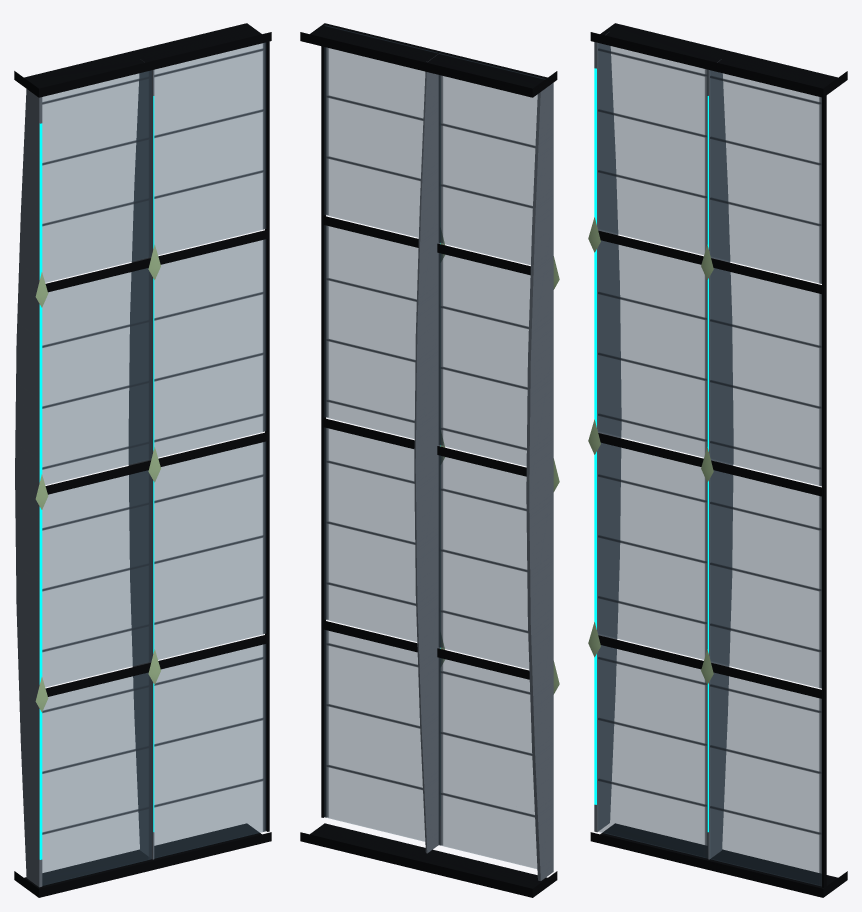
3 renders of one model, left to right at view 1: azimuth 30°, elevation 25°; view 2: azimuth 150°, elevation 25°; view 3: azimuth 330°, elevation 25°, orthographic.
Visible parts, largest first — view 1: Fin_Leaf, Glass_Pane_12, Glass_Pane_11, Glass_Pane_10, Glass_Pane_13, Glass_Pane_02, Glass_Pane_01, Glass_Pane_00, Glass_Pane_03, Transoms, Head_Track, Sill_Track (+3 smaller); view 2: Fin_Leaf, Glass_Pane_10, Glass_Pane_00, Glass_Pane_12, Glass_Pane_11, Glass_Pane_02, Glass_Pane_01, Glass_Pane_13, Glass_Pane_03, Head_Track, Sill_Track, Transoms (+2 smaller); view 3: Fin_Leaf, Glass_Pane_12, Glass_Pane_11, Glass_Pane_01, Glass_Pane_02, Glass_Pane_10, Glass_Pane_13, Glass_Pane_00, Glass_Pane_03, Transoms, Head_Track, Sill_Track (+3 smaller).
Part boxes in pixels (x1,y1,x2,y2): Fin_Leaf: (15, 59, 154, 887); Glass_Pane_12: (154, 239, 266, 457); Glass_Pane_11: (154, 441, 266, 659); Glass_Pane_10: (154, 644, 266, 858); Glass_Pane_13: (154, 42, 266, 254); Glass_Pane_02: (42, 268, 151, 484); Glass_Pane_01: (42, 470, 151, 686); Glass_Pane_00: (42, 673, 151, 885); Glass_Pane_03: (42, 70, 151, 282); Transoms: (45, 229, 267, 696); Head_Track: (14, 23, 271, 97); Sill_Track: (14, 823, 271, 897); Fin_Leaf: (414, 53, 553, 880); Glass_Pane_10: (324, 629, 424, 841); Glass_Pane_00: (438, 657, 536, 868); Glass_Pane_12: (324, 225, 418, 438); Glass_Pane_11: (324, 427, 416, 641); Glass_Pane_02: (438, 253, 530, 465); Glass_Pane_01: (438, 455, 528, 668); Glass_Pane_13: (324, 25, 436, 237); Glass_Pane_03: (438, 53, 544, 264); Head_Track: (300, 23, 557, 97); Sill_Track: (300, 823, 557, 897); Transoms: (322, 215, 530, 679); Fin_Leaf: (594, 32, 733, 859); Glass_Pane_12: (710, 268, 821, 486); Glass_Pane_11: (710, 470, 821, 688); Glass_Pane_01: (598, 443, 707, 659); Glass_Pane_02: (598, 240, 707, 457); Glass_Pane_10: (710, 673, 821, 886); Glass_Pane_13: (710, 70, 821, 283); Glass_Pane_00: (598, 645, 707, 858); Glass_Pane_03: (598, 43, 707, 254); Transoms: (598, 230, 822, 698); Head_Track: (590, 23, 847, 97); Sill_Track: (590, 823, 847, 897).
Size of the model in its own units: 4.05 by 13.3 by 0.781.
5 materials, 3 textured.
